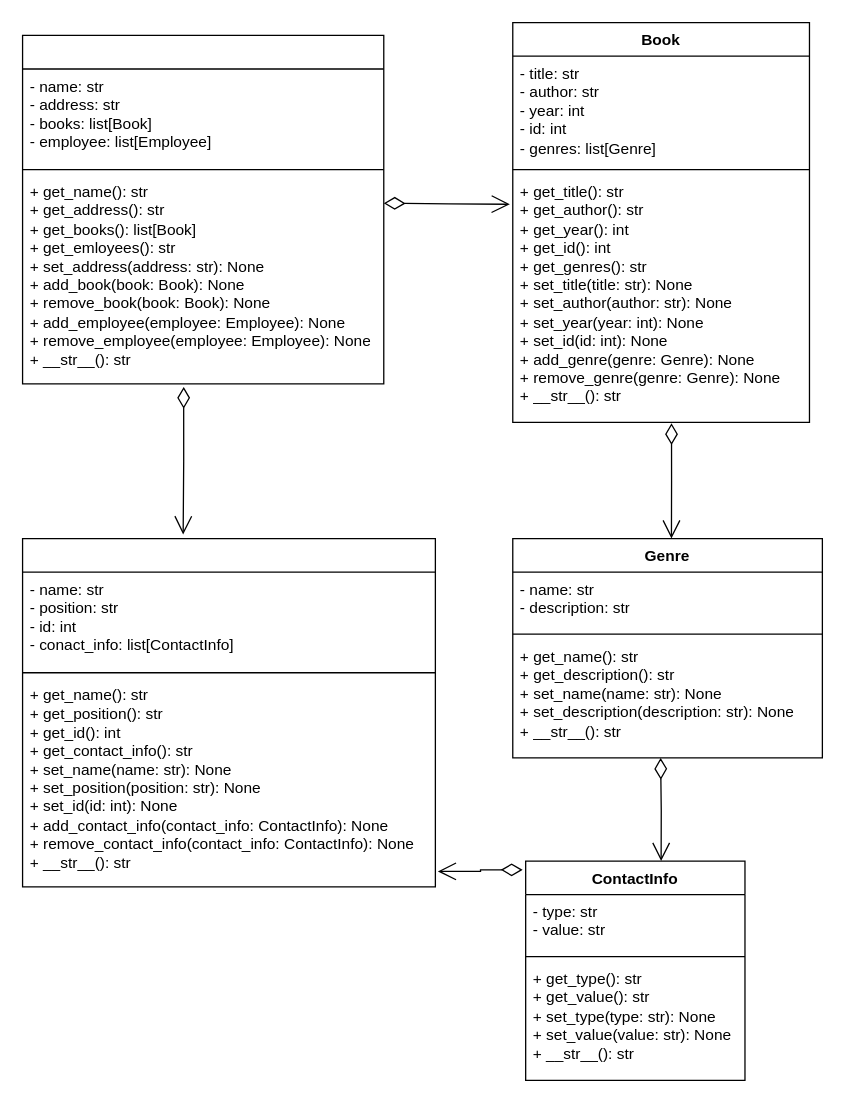
Image size: 845x1107. Some labels were removed from this diagram. Here are the shapes that lost their labels. From the top down, the box of each, then its label:
(21, 34, 384, 384): Library
(21, 537, 435, 887): Employee
